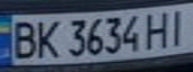3: (63, 16, 87, 57), (103, 13, 124, 55)
4: (121, 11, 145, 53)
6: (84, 15, 109, 56)
B: (6, 18, 42, 60)
H: (142, 8, 175, 50)
I: (163, 6, 193, 47)
K: (30, 17, 63, 60)
